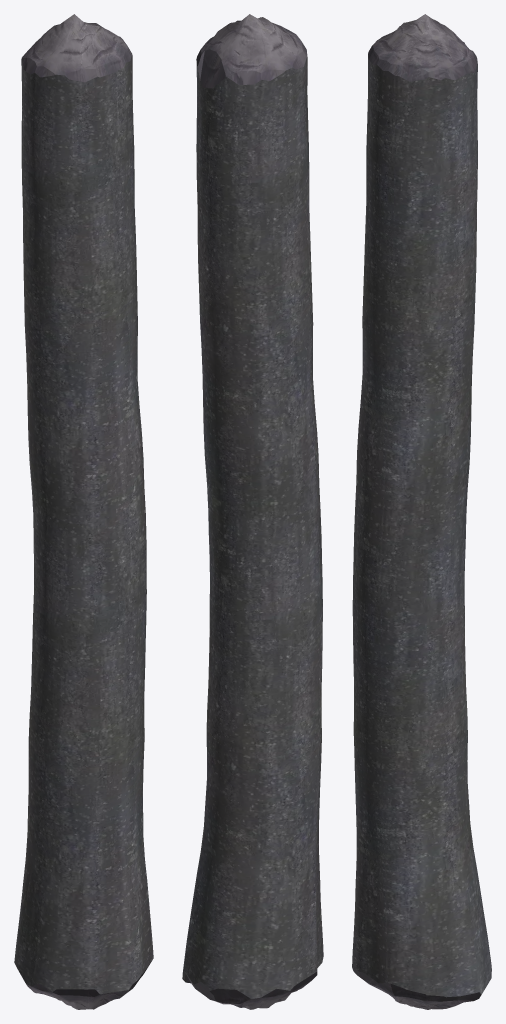
3 views of the same model, side by side, from view 1: azimuth 90°, elevation 25°; view 2: azimuth 150°, elevation 25°; view 3: azimuth 330°, elevation 25° (orthographic).
Visible parts, largest first — view 1: SM_FH_Ash_Tree_03_half_bottom_LOD0; view 2: SM_FH_Ash_Tree_03_half_bottom_LOD0; view 3: SM_FH_Ash_Tree_03_half_bottom_LOD0.
Boxes of the visible parts, bbox=[...] form: SM_FH_Ash_Tree_03_half_bottom_LOD0: bbox=[14, 14, 153, 1009]; SM_FH_Ash_Tree_03_half_bottom_LOD0: bbox=[182, 14, 323, 1009]; SM_FH_Ash_Tree_03_half_bottom_LOD0: bbox=[352, 14, 491, 1009].
Size of the model in its own units: 0.5918 by 4.56 by 0.5785.
1 material, 1 textured.
